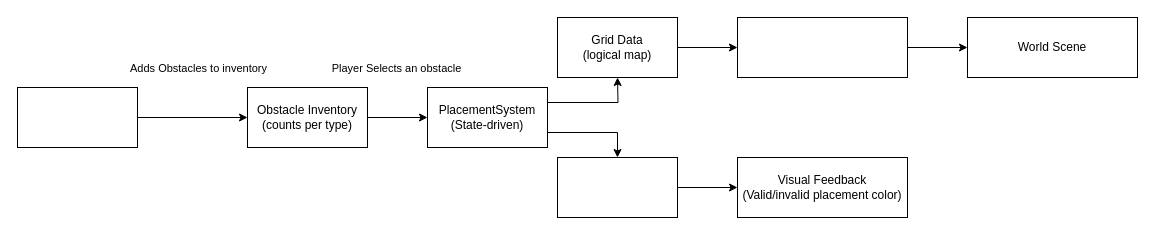
Image size: 1155x235. Some labels were removed from this diagram. The shapes that lost their labels are listed below. From the top down, each one's box as (x1, y1, x2, y2) in pixels, then its label:
(736, 16, 908, 78): ObjectPlacer (spawns/despawnsObstacles)
(16, 86, 138, 148): Obstacle Shop
(556, 156, 678, 218): Preview System (visual preview)
